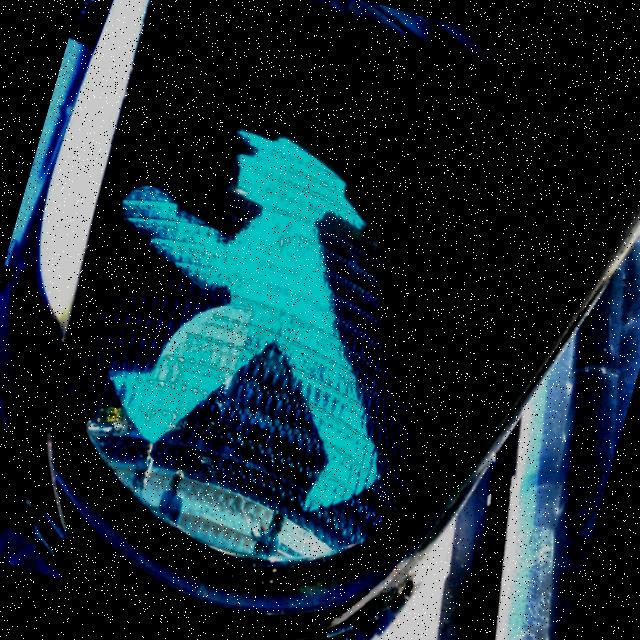green_light: (48, 85, 469, 532)
